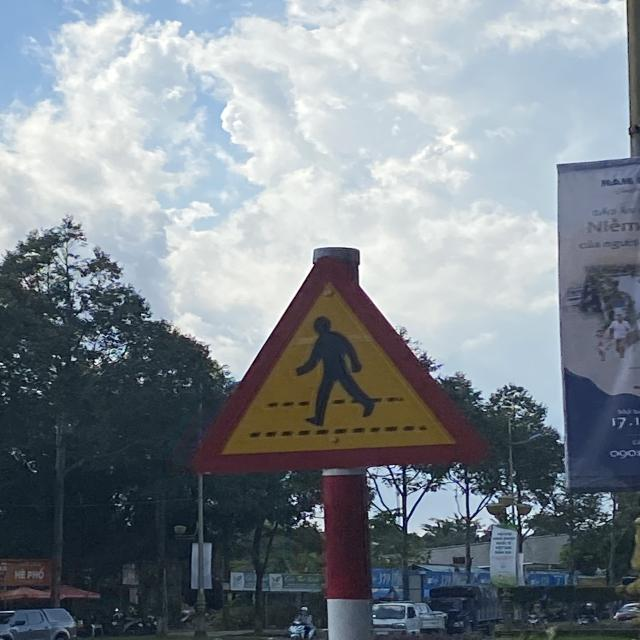Duong_Nguoi_Di_Bo_Sang_Ngang: (189, 255, 479, 464)
